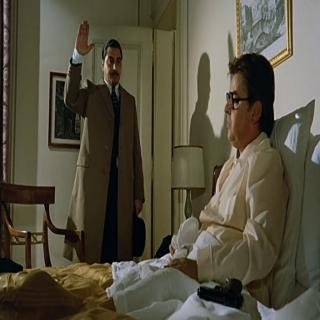gun: (195, 276, 246, 312)
